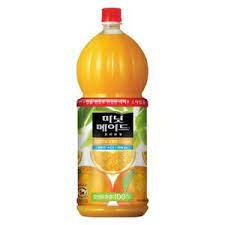minutemaid_org_orange: (68, 6, 155, 220)
